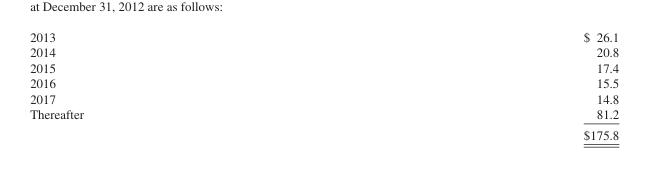table: (29, 28, 618, 141)
table column: (29, 28, 332, 141), (332, 28, 618, 141)
table row: (29, 105, 618, 123), (29, 123, 618, 141), (29, 43, 618, 59), (29, 74, 618, 90), (29, 28, 618, 43), (29, 59, 618, 74), (29, 90, 618, 105)
